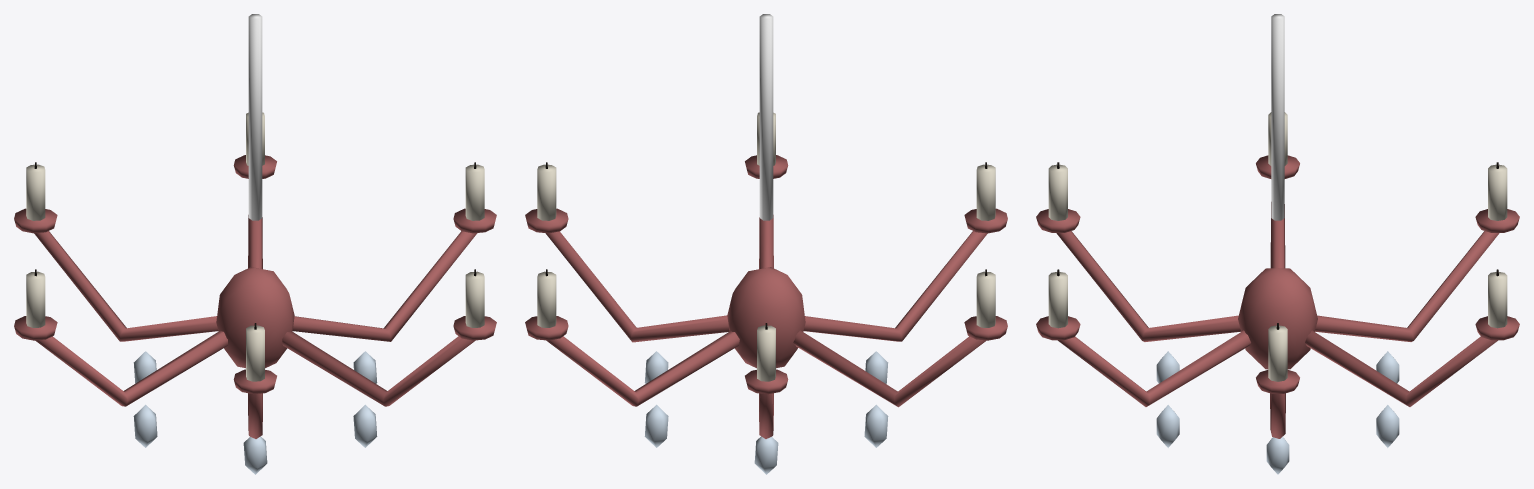
Rendered from shadewood_chandelier_v0.glb.
3 views of the same model, side by side, from view 1: azimuth 30°, elevation 25°; view 2: azimuth 150°, elevation 25°; view 3: azimuth 270°, elevation 25° (orthographic).
Parts seen in each view (by area): view 1: shadewood_chandelier_v0; view 2: shadewood_chandelier_v0; view 3: shadewood_chandelier_v0.
Part boxes in pixels (left/top/right/bottom): shadewood_chandelier_v0: left=14, top=14, right=496, bottom=474; shadewood_chandelier_v0: left=525, top=14, right=1007, bottom=474; shadewood_chandelier_v0: left=1036, top=14, right=1519, bottom=474.
Size of the model in its own units: 1.24 by 1 by 1.09.
